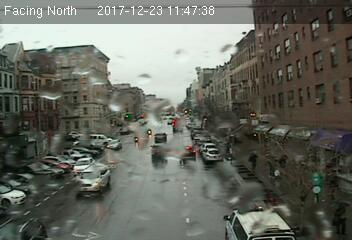car: (75, 165, 111, 196), (73, 157, 96, 173), (203, 147, 222, 162), (179, 145, 197, 160), (153, 131, 168, 142)
police: (224, 204, 296, 240)
